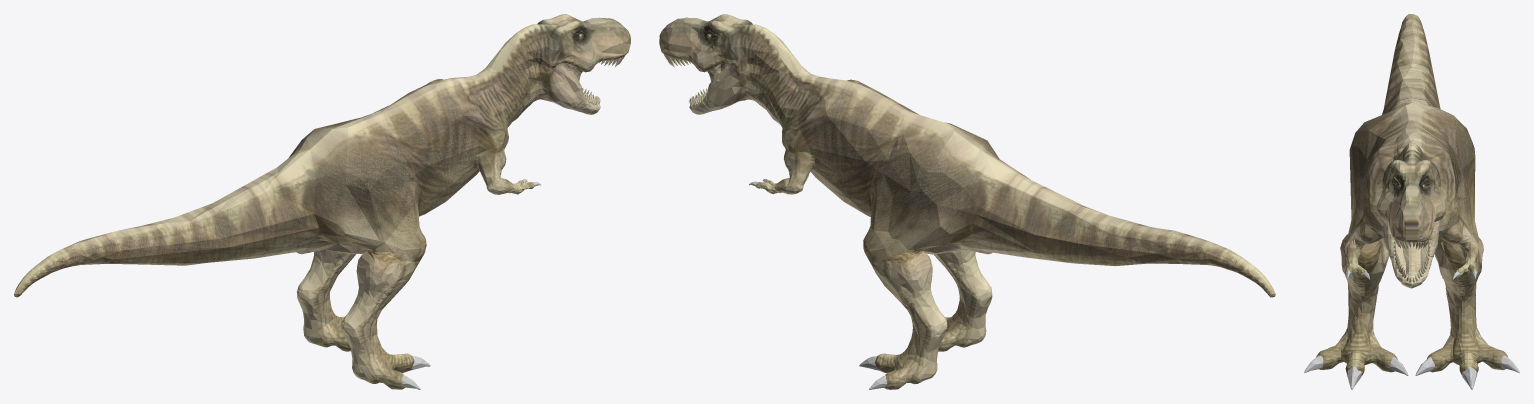
File: tirarex.obj
3 views of the same model, side by side, from view 1: azimuth 30°, elevation 25°; view 2: azimuth 150°, elevation 25°; view 3: azimuth 270°, elevation 25° (orthographic). The views are drawn at different scales.
Parts seen in each view (by area): view 1: META; view 2: META; view 3: META, UNAS, DIENTS.
Boxes of the visible parts, box(x1,y1,x2,y2) form: META: box(14, 14, 630, 389); META: box(659, 14, 1275, 389); META: box(1316, 14, 1508, 375); UNAS: box(1304, 269, 1519, 389); DIENTS: box(1393, 238, 1430, 282).
Size of the model in its own units: 13881 by 6317 by 3898.
